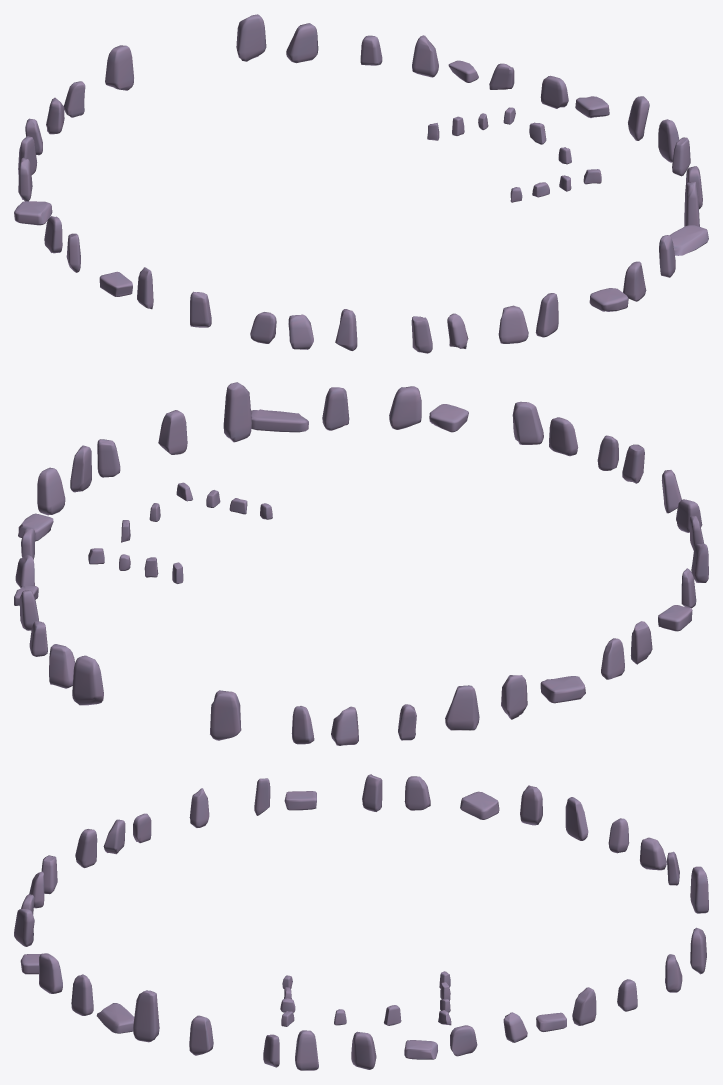
File: castlerigg.glb
The picture shows the model from 3 angles, top to bottom: view 1: azimuth 30°, elevation 25°; view 2: azimuth 150°, elevation 25°; view 3: azimuth 270°, elevation 25°; orthographic projection. The views are drawn at different scales.
Parts seen in each view (by area): view 1: sanctuary#drop, stone_01#drop, stone_36#drop, stone_02#drop, stone_19#drop, stone_04#drop, stone_14#drop, stone_18#drop, stone_30#drop, stone_23#drop, stone_17#drop, stone_07#drop (+20 smaller); view 2: sanctuary#drop, stone_13#drop, stone_36#drop, stone_01#drop, stone_32#drop, stone_16#drop, stone_18#drop, stone_14#drop, stone_09#drop, stone_12#drop, stone_02#drop, stone_30#drop (+19 smaller); view 3: sanctuary#drop, stone_13#drop, stone_10#drop, stone_12#drop, stone_30#drop, stone_14#drop, stone_09#drop, stone_16#drop, stone_32#drop, stone_31#drop, stone_15#drop, stone_36#drop (+21 smaller).
Part boxes in pixels (bbox=[...]): sanctuary#drop: bbox=[427, 107, 601, 202]; stone_01#drop: bbox=[236, 14, 266, 61]; stone_36#drop: bbox=[105, 45, 133, 90]; stone_02#drop: bbox=[286, 23, 318, 63]; stone_19#drop: bbox=[498, 305, 528, 343]; stone_04#drop: bbox=[412, 35, 438, 77]; stone_14#drop: bbox=[669, 225, 708, 255]; stone_18#drop: bbox=[535, 293, 558, 337]; stone_30#drop: bbox=[14, 201, 52, 225]; stone_23#drop: bbox=[288, 314, 313, 349]; stone_17#drop: bbox=[589, 288, 628, 311]; stone_07#drop: bbox=[540, 75, 568, 108]; sanctuary#drop: bbox=[88, 482, 272, 583]; stone_13#drop: bbox=[223, 382, 251, 442]; stone_36#drop: bbox=[210, 690, 241, 740]; stone_01#drop: bbox=[72, 655, 103, 705]; stone_32#drop: bbox=[445, 685, 479, 730]; stone_16#drop: bbox=[389, 386, 421, 429]; stone_18#drop: bbox=[512, 401, 543, 444]; stone_14#drop: bbox=[251, 409, 308, 432]; stone_09#drop: bbox=[37, 467, 65, 515]; stone_12#drop: bbox=[158, 410, 187, 454]; stone_02#drop: bbox=[49, 644, 74, 688]; stone_30#drop: bbox=[540, 676, 585, 703]; sanctuary#drop: bbox=[280, 971, 451, 1026]; stone_13#drop: bbox=[133, 990, 159, 1042]; stone_10#drop: bbox=[295, 1030, 318, 1070]; stone_12#drop: bbox=[189, 1015, 213, 1055]; stone_30#drop: bbox=[460, 791, 499, 819]; stone_14#drop: bbox=[96, 1003, 134, 1033]; stone_09#drop: bbox=[351, 1031, 376, 1069]; stone_16#drop: bbox=[39, 953, 62, 993]; stone_32#drop: bbox=[565, 797, 588, 840]; stone_31#drop: bbox=[520, 785, 542, 825]; stone_15#drop: bbox=[71, 974, 93, 1015]; stone_36#drop: bbox=[690, 866, 708, 913].
Bounding box in the file's own units: 30.06 × 2.66 × 33.14.
